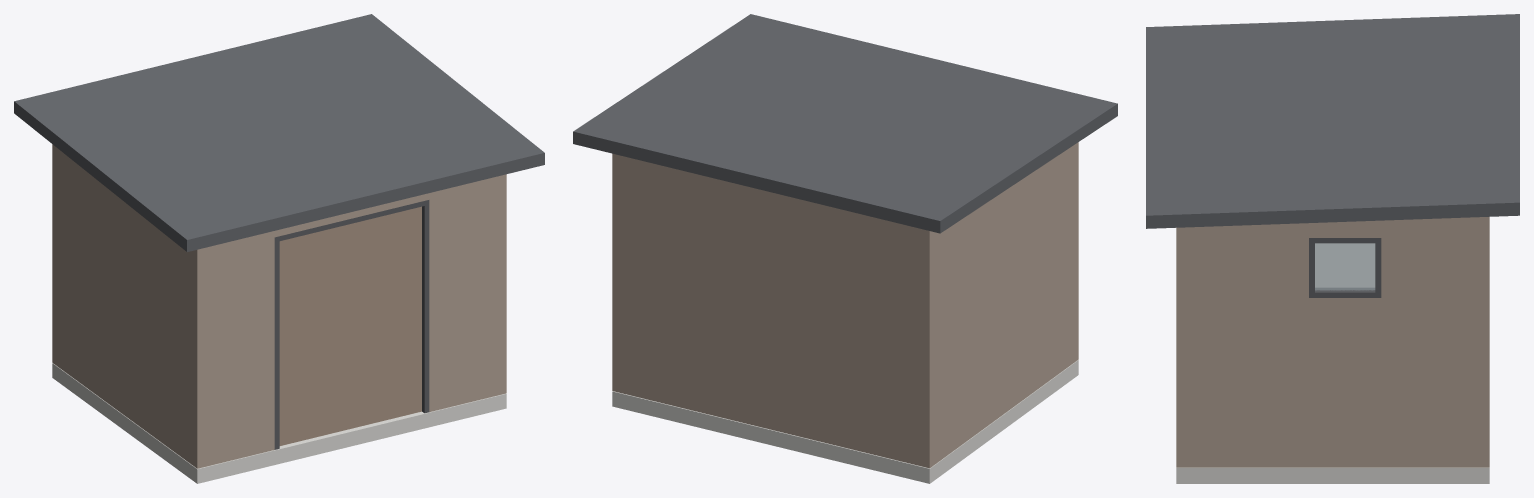
Rendered from shed-jardin.glb.
3 views of the same model, side by side, from view 1: azimuth 30°, elevation 25°; view 2: azimuth 150°, elevation 25°; view 3: azimuth 270°, elevation 25° (orthographic). The views are drawn at different scales.
Parts seen in each view (by area): view 1: Losa de techo · Chapa techo, Muro S · Revestimiento madera, Puerta S1 · Puerta madera, Muro O · Revestimiento madera, Platea · Hormigón, Puerta S1 · Aluminio negro, Muro N · Revestimiento madera; view 2: Muro N · Revestimiento madera, Losa de techo · Chapa techo, Muro O · Revestimiento madera, Platea · Hormigón, Muro S · Revestimiento madera; view 3: Losa de techo · Chapa techo, Muro E · Revestimiento madera, Platea · Hormigón, Muro N · Revestimiento madera, Muro S · Revestimiento madera, Ventana E1 · Vidrio, Muro O · Interior blanco, Ventana E1 · Aluminio negro.
Boxes of the visible parts, x1,y1,x2,y2 form: Losa de techo · Chapa techo: (14, 14, 544, 251); Muro S · Revestimiento madera: (191, 174, 506, 468); Puerta S1 · Puerta madera: (279, 206, 421, 445); Muro O · Revestimiento madera: (57, 148, 191, 464); Platea · Hormigón: (52, 363, 506, 483); Puerta S1 · Aluminio negro: (274, 200, 429, 449); Muro N · Revestimiento madera: (52, 144, 57, 366); Muro N · Revestimiento madera: (612, 153, 935, 468); Losa de techo · Chapa techo: (573, 14, 1117, 233); Muro O · Revestimiento madera: (935, 146, 1072, 463); Platea · Hormigón: (612, 359, 1078, 483); Muro S · Revestimiento madera: (1073, 142, 1078, 363); Losa de techo · Chapa techo: (1146, 14, 1519, 228); Muro E · Revestimiento madera: (1188, 217, 1477, 467); Platea · Hormigón: (1176, 467, 1489, 483); Muro N · Revestimiento madera: (1477, 217, 1489, 467); Muro S · Revestimiento madera: (1176, 227, 1188, 467); Ventana E1 · Vidrio: (1315, 243, 1375, 290); Muro O · Interior blanco: (1315, 243, 1374, 287); Ventana E1 · Aluminio negro: (1309, 238, 1381, 297).
Size of the model in its own units: 3.7 by 2.69 by 3.1.
